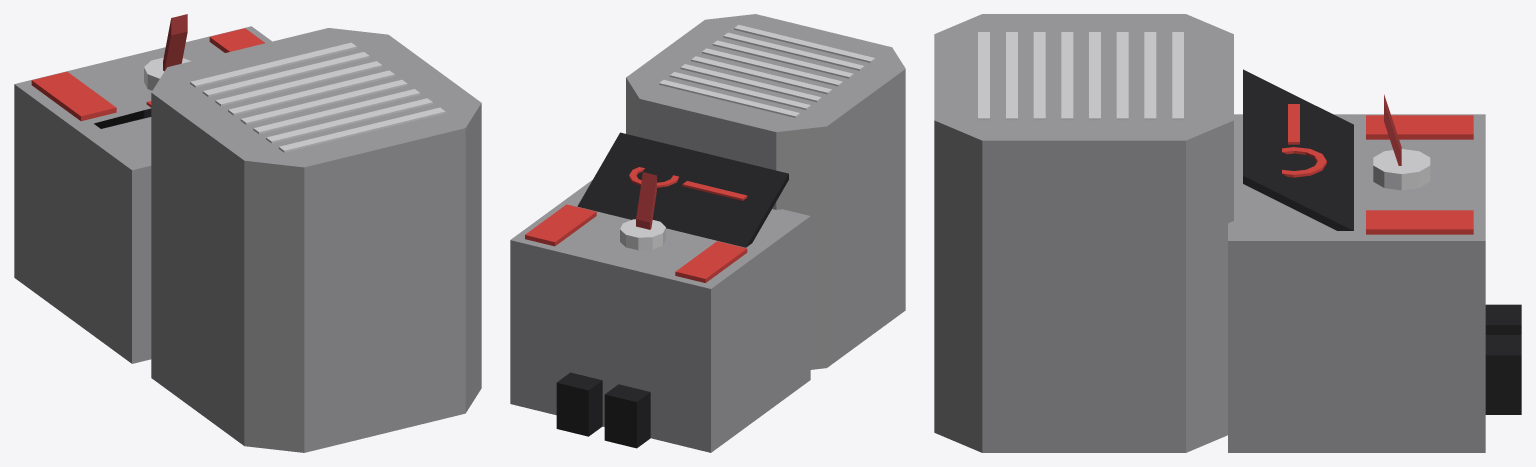
File: vge_e_pilot_cockpit.obj
3 views of the same model, side by side, from view 1: azimuth 30°, elevation 25°; view 2: azimuth 150°, elevation 25°; view 3: azimuth 270°, elevation 25° (orthographic). The views are drawn at different scales.
Visible parts, largest first — view 1: vge_pilot_cockpit_0, vge_pilot_cockpit_9, vge_pilot_cockpit_16, vge_pilot_cockpit_3, vge_pilot_cockpit_8, vge_pilot_cockpit_5, vge_pilot_cockpit_6, vge_pilot_cockpit_1, vge_pilot_cockpit_2, vge_pilot_cockpit_4, vge_pilot_cockpit_7, vge_pilot_cockpit_14 (+3 smaller); view 2: vge_pilot_cockpit_9, vge_pilot_cockpit_0, vge_pilot_cockpit_10, vge_pilot_cockpit_17, vge_pilot_cockpit_18, vge_pilot_cockpit_16, vge_pilot_cockpit_15, vge_pilot_cockpit_13, vge_pilot_cockpit_4, vge_pilot_cockpit_5, vge_pilot_cockpit_3, vge_pilot_cockpit_6 (+6 smaller); view 3: vge_pilot_cockpit_0, vge_pilot_cockpit_9, vge_pilot_cockpit_10, vge_pilot_cockpit_17, vge_pilot_cockpit_15, vge_pilot_cockpit_16, vge_pilot_cockpit_13, vge_pilot_cockpit_2, vge_pilot_cockpit_3, vge_pilot_cockpit_5, vge_pilot_cockpit_6, vge_pilot_cockpit_18 (+5 smaller).
Part boxes in pixels (x1=…): vge_pilot_cockpit_0: x1=151, y1=28, x2=481, y2=452; vge_pilot_cockpit_9: x1=14, y1=26, x2=271, y2=363; vge_pilot_cockpit_16: x1=31, y1=71, x2=116, y2=121; vge_pilot_cockpit_3: x1=215, y1=61, x2=382, y2=106; vge_pilot_cockpit_8: x1=278, y1=107, x2=445, y2=152; vge_pilot_cockpit_5: x1=240, y1=79, x2=407, y2=124; vge_pilot_cockpit_6: x1=253, y1=89, x2=420, y2=133; vge_pilot_cockpit_1: x1=190, y1=42, x2=356, y2=87; vge_pilot_cockpit_2: x1=202, y1=52, x2=369, y2=96; vge_pilot_cockpit_4: x1=228, y1=70, x2=394, y2=115; vge_pilot_cockpit_7: x1=266, y1=98, x2=432, y2=143; vge_pilot_cockpit_14: x1=163, y1=14, x2=187, y2=71; vge_pilot_cockpit_9: x1=510, y1=180, x2=810, y2=452; vge_pilot_cockpit_0: x1=626, y1=14, x2=905, y2=369; vge_pilot_cockpit_10: x1=577, y1=132, x2=788, y2=247; vge_pilot_cockpit_17: x1=556, y1=372, x2=602, y2=436; vge_pilot_cockpit_18: x1=604, y1=384, x2=650, y2=448; vge_pilot_cockpit_16: x1=675, y1=241, x2=747, y2=282; vge_pilot_cockpit_15: x1=525, y1=204, x2=596, y2=246; vge_pilot_cockpit_13: x1=620, y1=219, x2=665, y2=250; vge_pilot_cockpit_4: x1=691, y1=56, x2=832, y2=94; vge_pilot_cockpit_5: x1=702, y1=48, x2=842, y2=86; vge_pilot_cockpit_3: x1=680, y1=64, x2=821, y2=102; vge_pilot_cockpit_6: x1=712, y1=40, x2=853, y2=78; vge_pilot_cockpit_0: x1=934, y1=14, x2=1233, y2=452; vge_pilot_cockpit_9: x1=1228, y1=114, x2=1485, y2=452; vge_pilot_cockpit_10: x1=1243, y1=69, x2=1353, y2=230; vge_pilot_cockpit_17: x1=1485, y1=335, x2=1521, y2=414; vge_pilot_cockpit_15: x1=1366, y1=210, x2=1473, y2=234; vge_pilot_cockpit_16: x1=1366, y1=115, x2=1473, y2=139; vge_pilot_cockpit_13: x1=1373, y1=149, x2=1430, y2=190; vge_pilot_cockpit_2: x1=1144, y1=32, x2=1156, y2=120; vge_pilot_cockpit_3: x1=1116, y1=32, x2=1128, y2=120; vge_pilot_cockpit_5: x1=1061, y1=32, x2=1073, y2=120; vge_pilot_cockpit_6: x1=1033, y1=32, x2=1045, y2=120; vge_pilot_cockpit_18: x1=1485, y1=304, x2=1521, y2=334.
Size of the model in its own units: 1 by 1.16 by 1.96.
